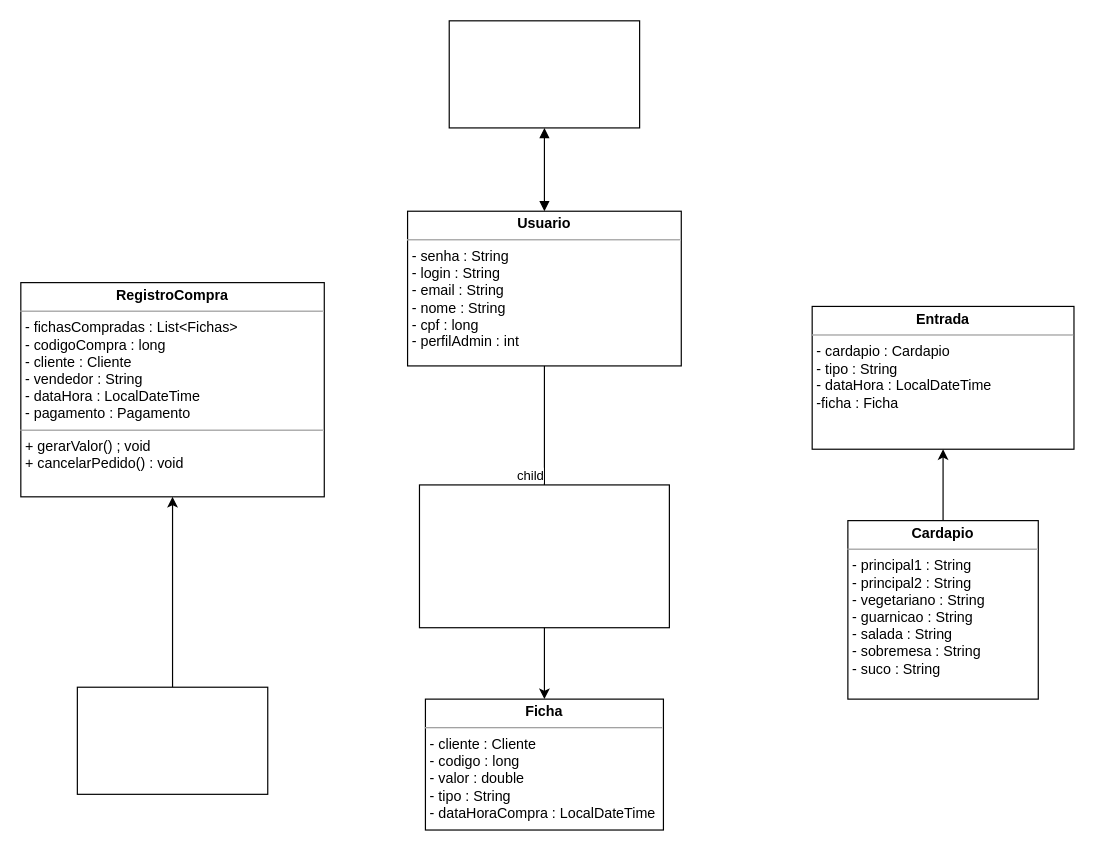
The diagram is 1095 pixels wide and 851 high, and some of its shapes have lost their labels. Here are the shapes that lost their labels. From the top down, the centre of each, then its label:
At [544,74]: "Sessao - usuario : Usuario + login(): boolean".
At [543,556]: "Cliente - matricula : long - perfilAtivo : boolean".
At [172,740]: "Pagamento - valor : double + autorizacaoPag(): boolean".
